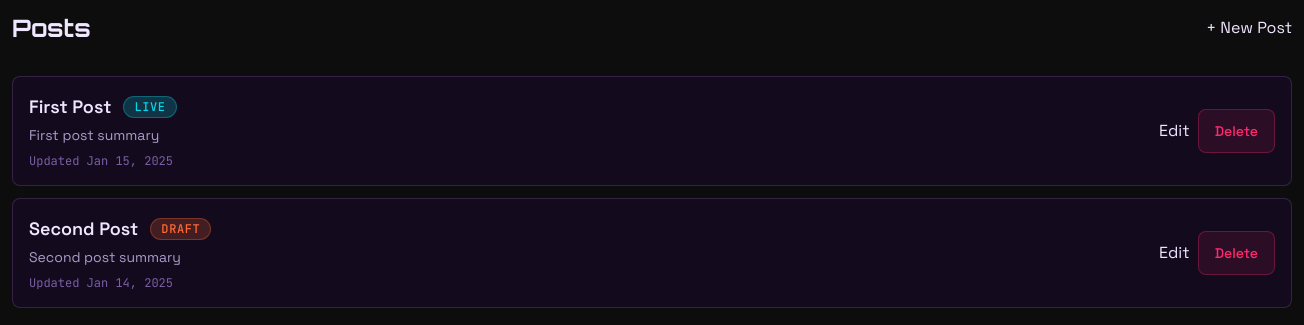
AdminDashboard › should delete post when delete is confirmed
The width and height of the screenshot is (1304, 325).
Check: the heading "First Post" is shown, box [29, 93, 111, 121]
Step 1. Click the button "Delete" in the row of "LIVE" → (1236, 131), box [1198, 109, 1275, 153]
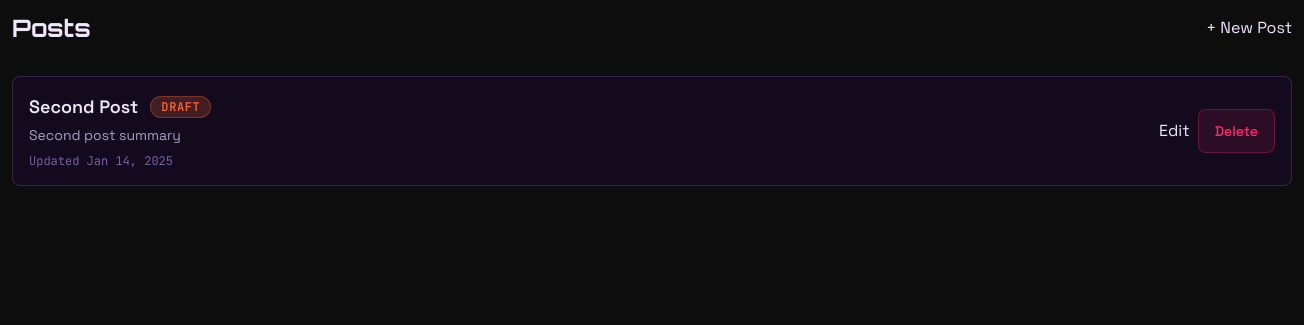
Check: the heading "First Post" is gone
